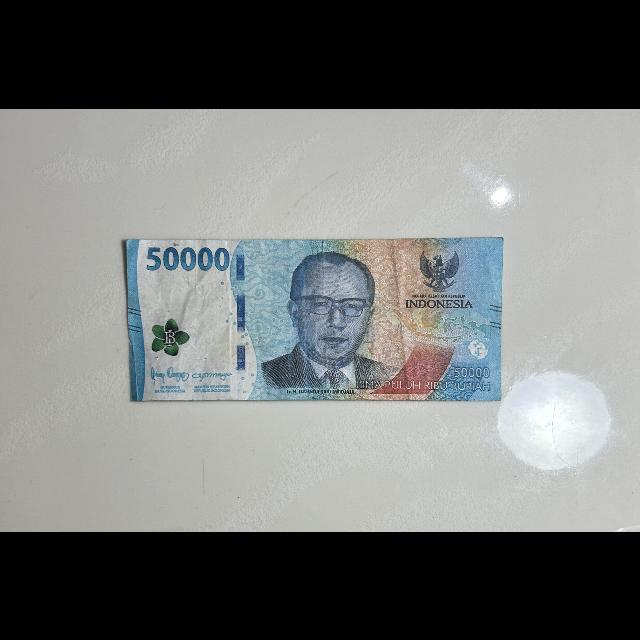Palsu-50k: (126, 236, 505, 403)
Tinta-Palsu-50k: (152, 318, 191, 356)
